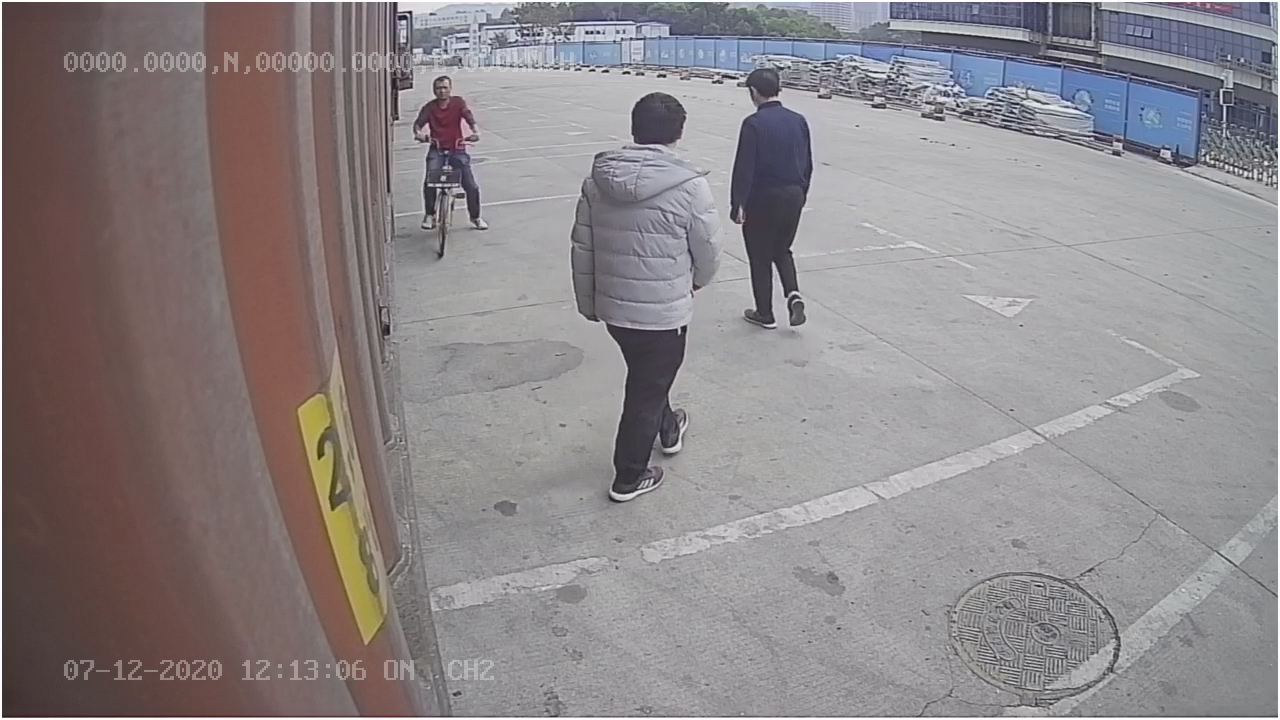person: (566, 78, 717, 502), (730, 63, 815, 334)
